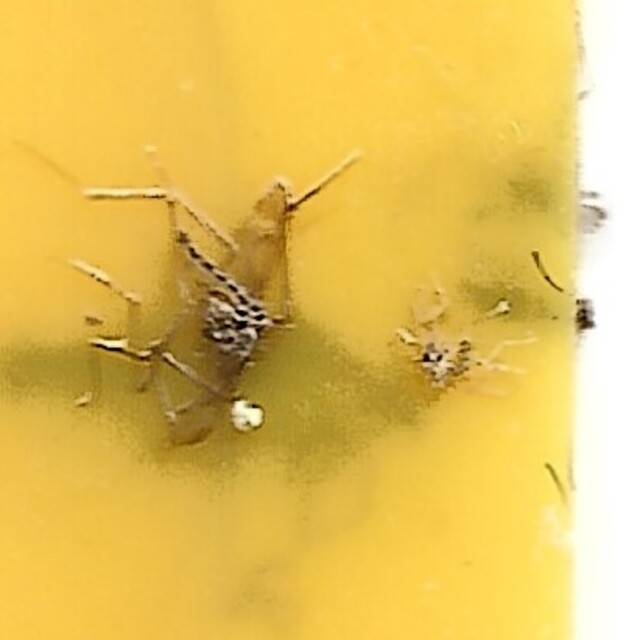Nematocera: (156, 178, 288, 462), (397, 303, 484, 403)
